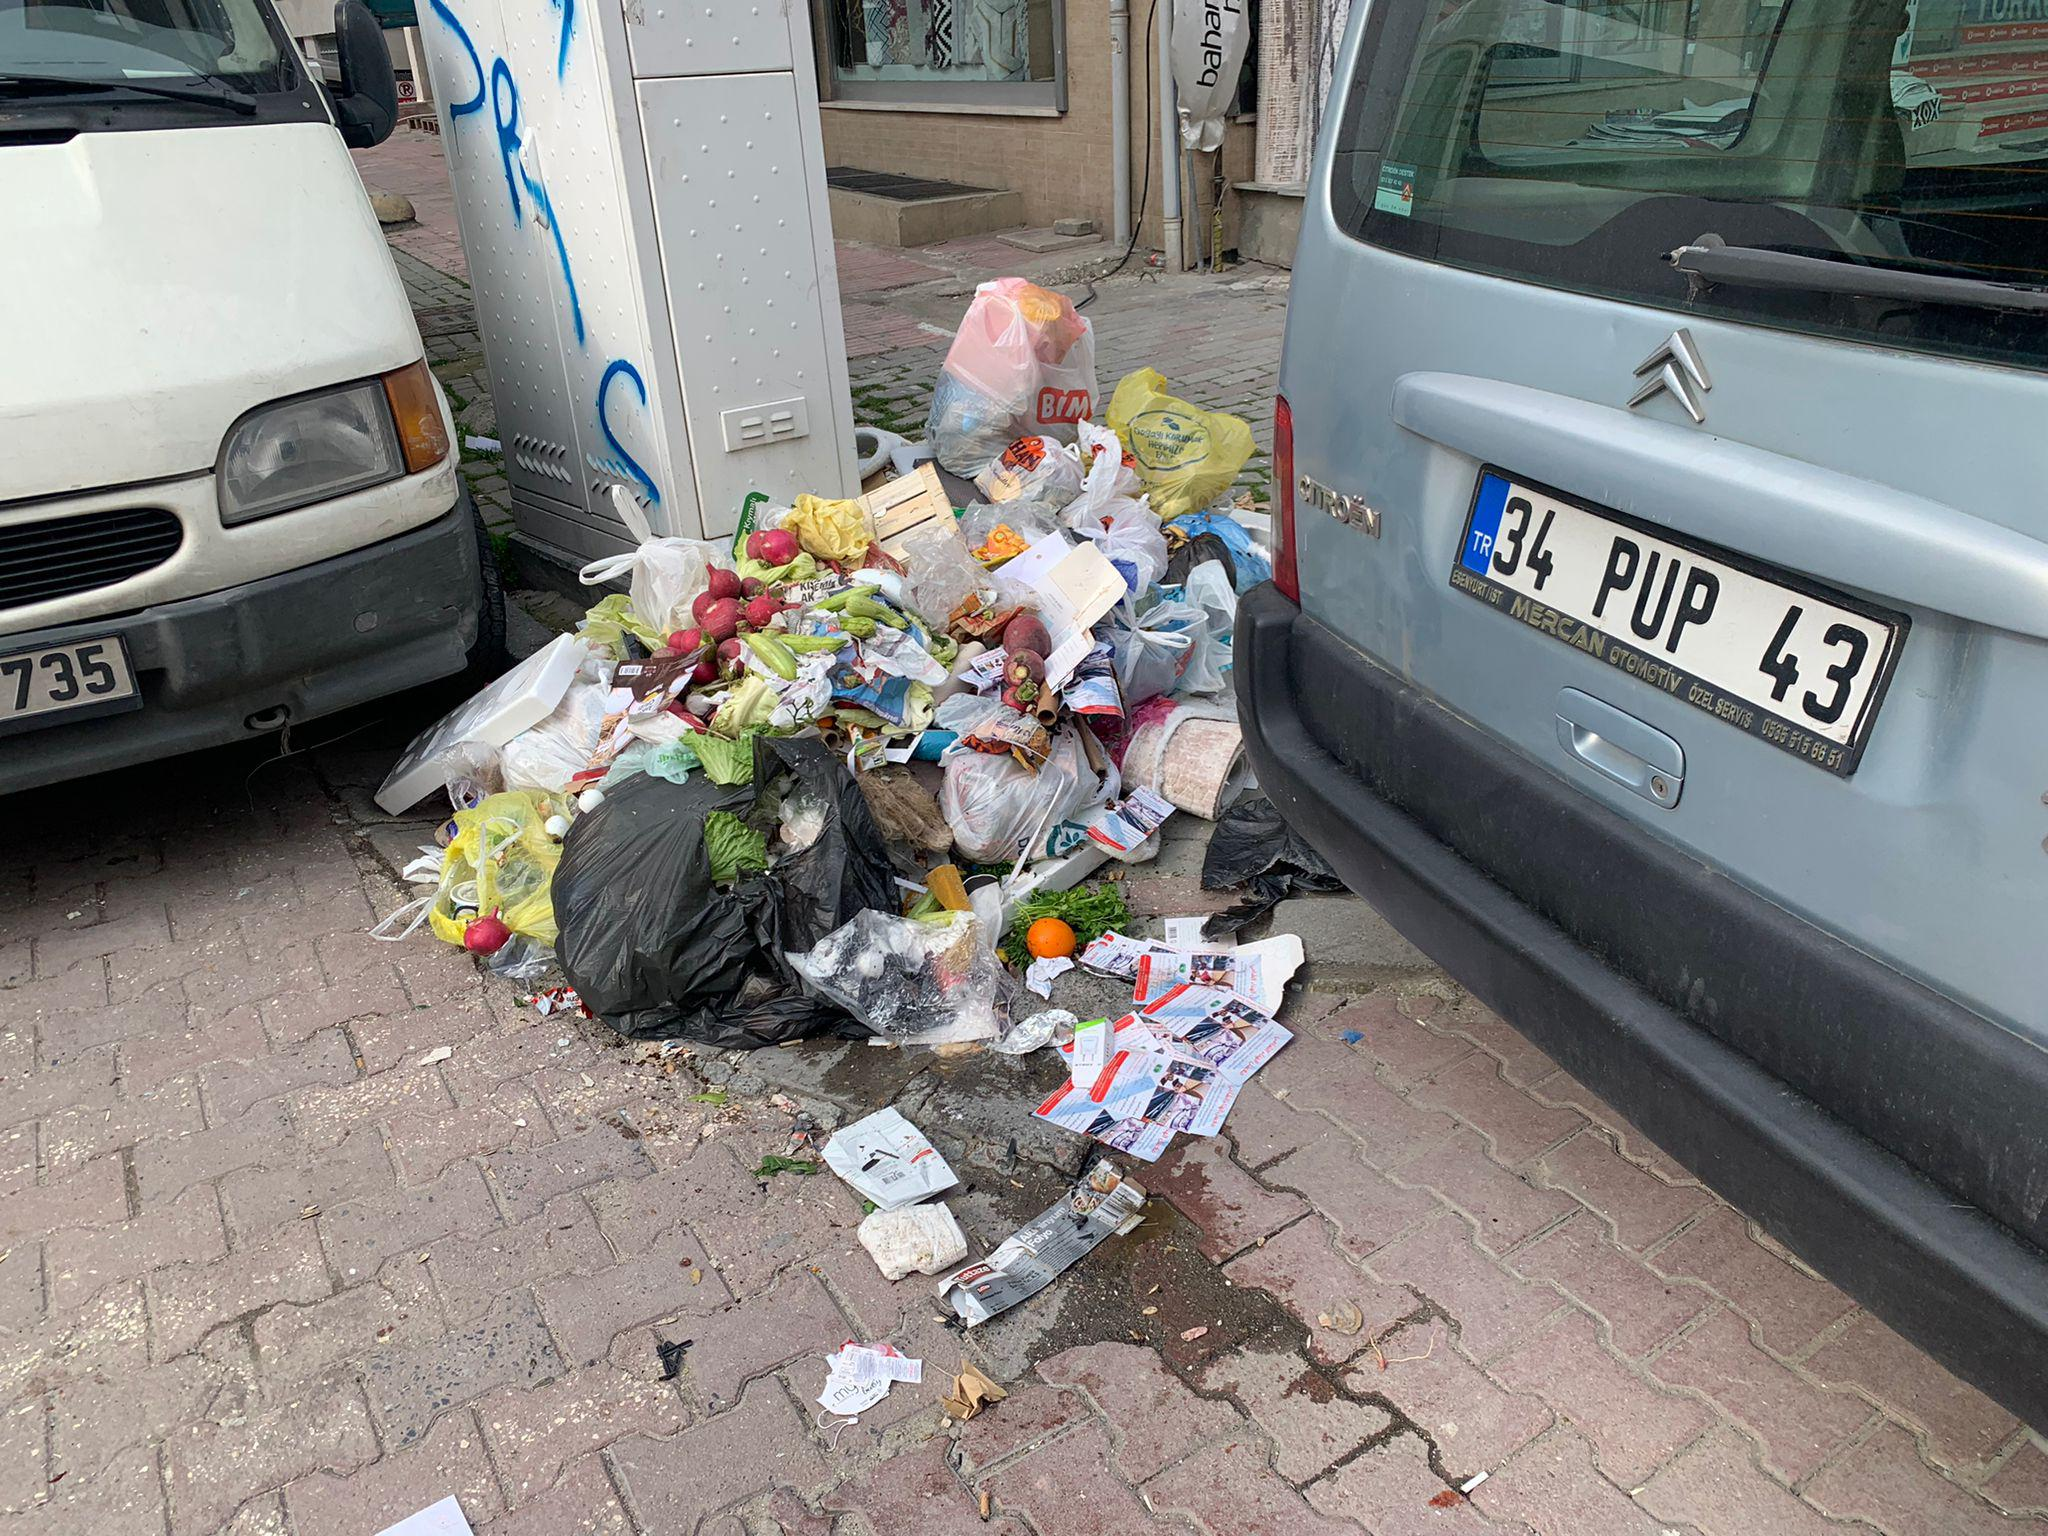Garbage: (711, 836, 1322, 1315), (527, 645, 1151, 983), (827, 515, 1209, 960), (643, 558, 1040, 824), (456, 695, 840, 942), (951, 278, 1242, 591), (795, 1329, 911, 1420)
